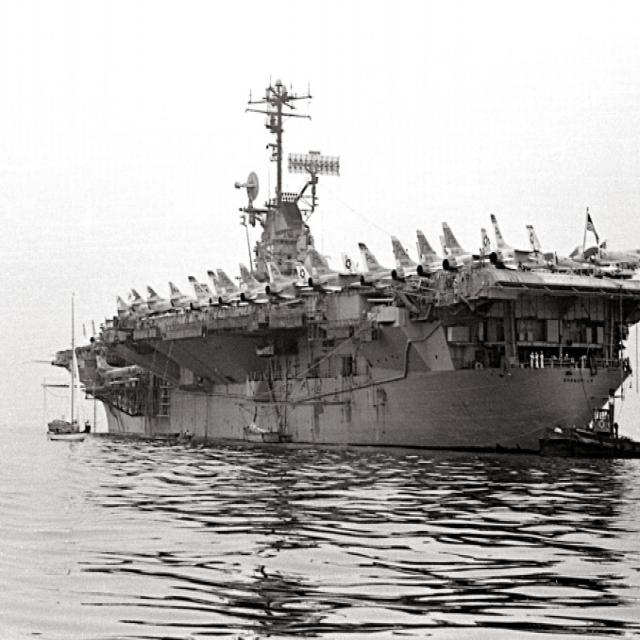Portanaves: (57, 57, 640, 472)
